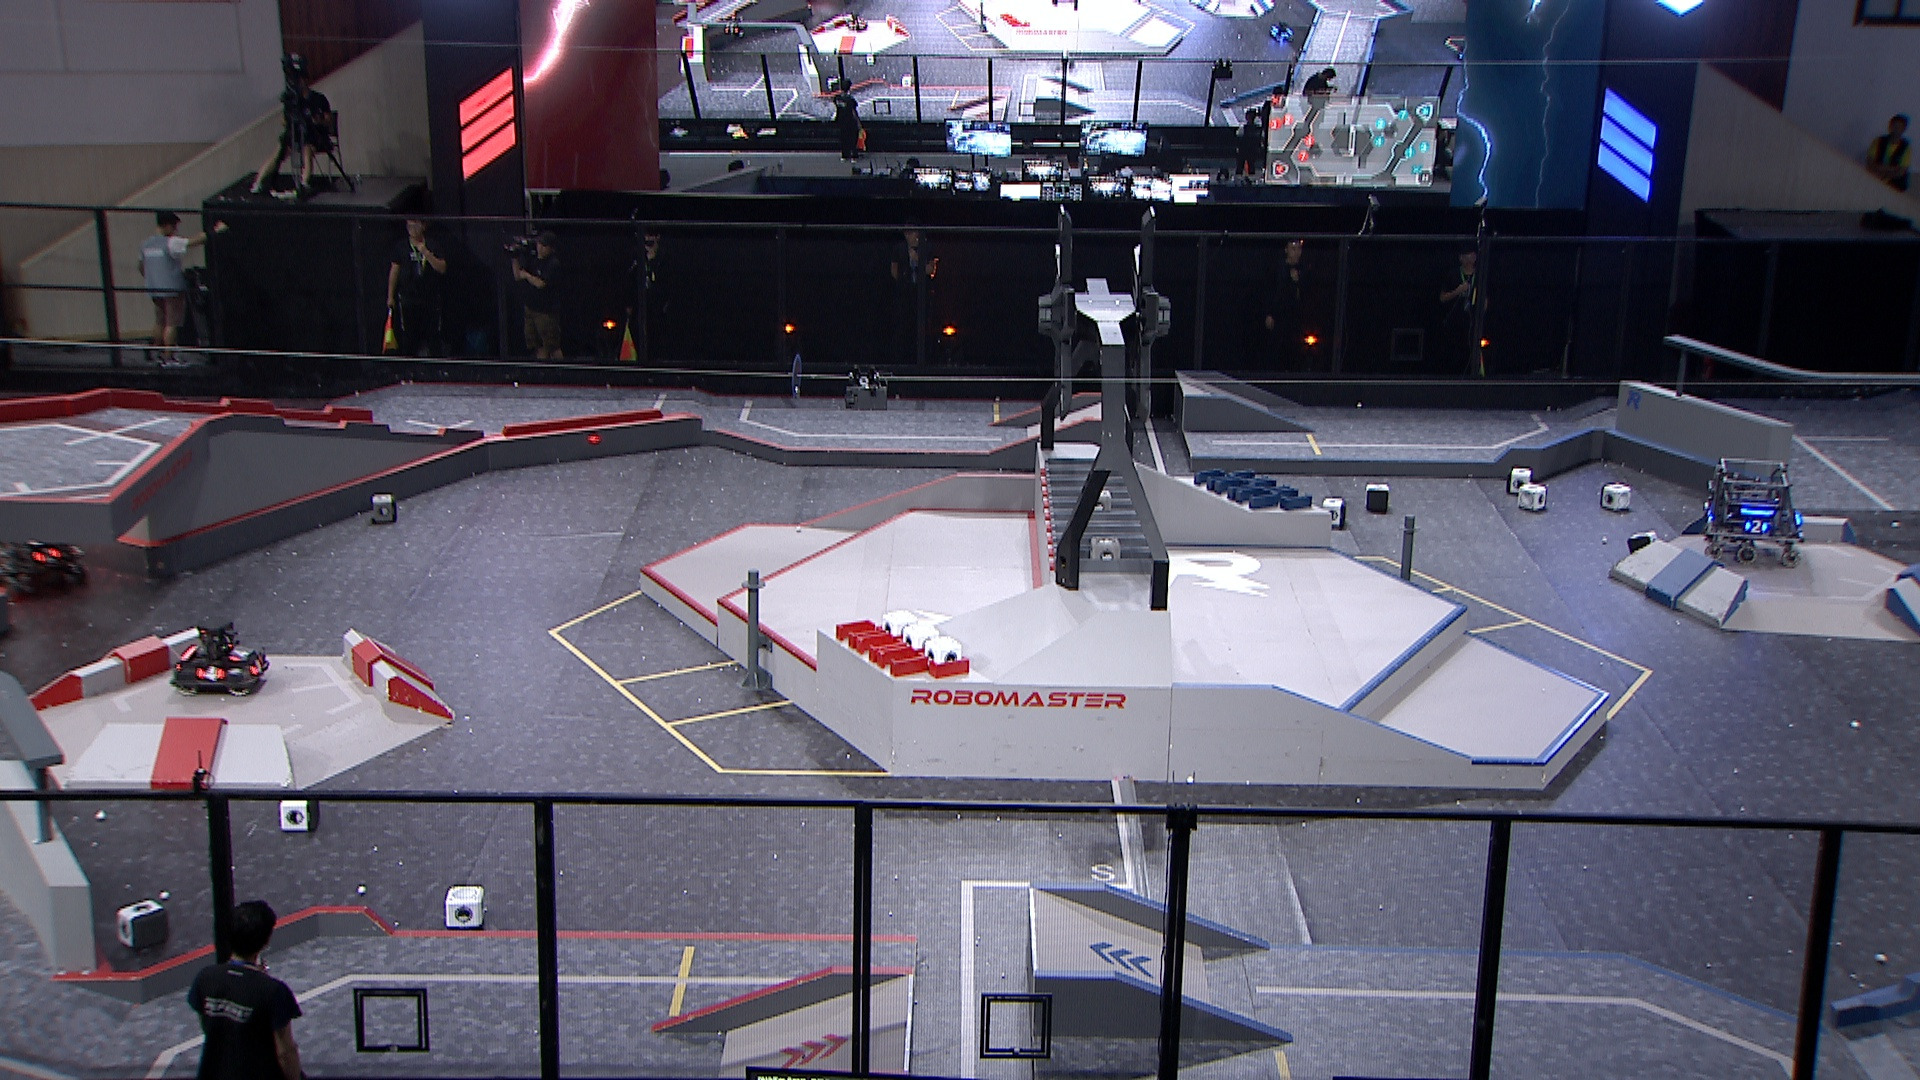armor: (193, 665, 224, 684), (32, 543, 59, 564), (229, 645, 248, 665), (1742, 518, 1768, 531), (251, 657, 266, 676)
car: (1698, 456, 1807, 568), (171, 617, 272, 698)
ignore: (1266, 17, 1296, 44), (843, 7, 870, 30), (721, 15, 746, 36)
